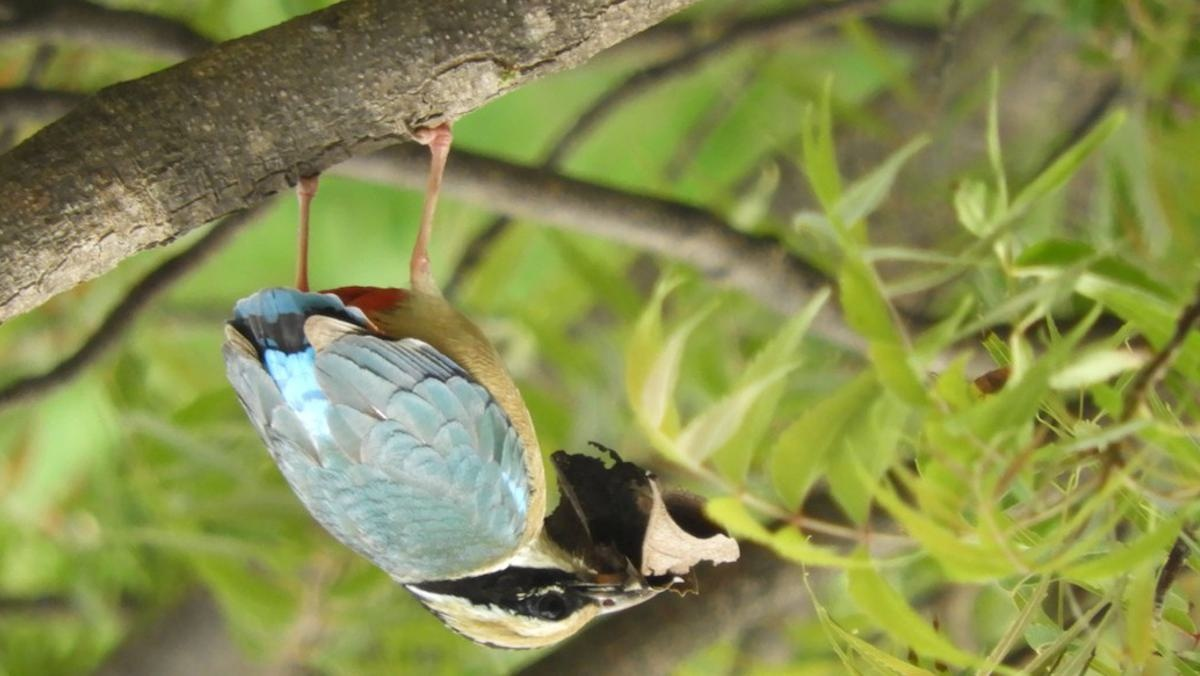pitta: (201, 186, 715, 653)
